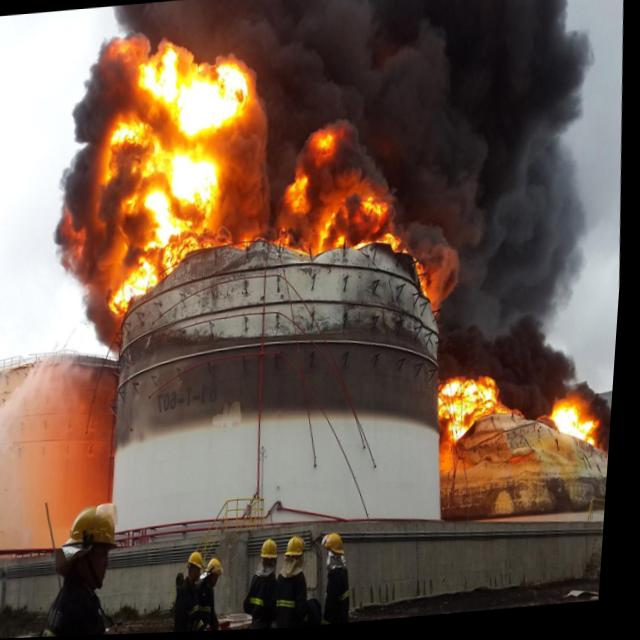fire: (61, 30, 284, 331), (269, 107, 424, 272), (438, 358, 537, 454), (545, 385, 615, 463)
